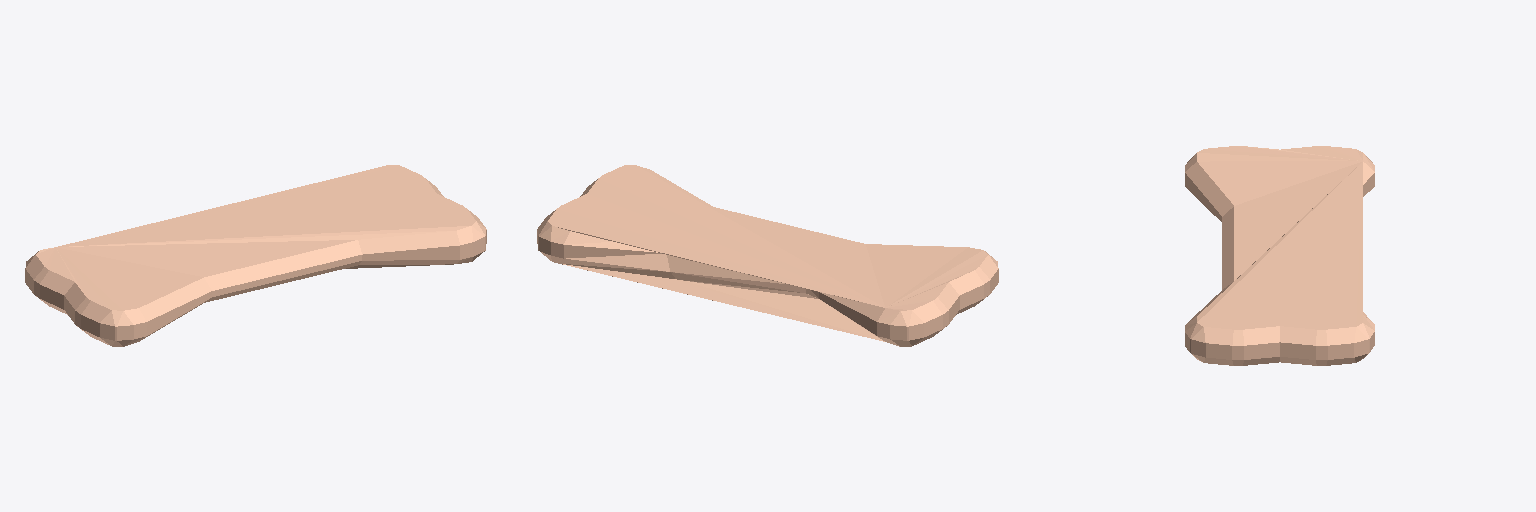
The model's file is bone_small.obj.
3 views of the same model, side by side, from view 1: azimuth 30°, elevation 25°; view 2: azimuth 150°, elevation 25°; view 3: azimuth 270°, elevation 25° (orthographic).
Visible parts, largest first — view 1: Curve_CUCurve; view 2: Curve_CUCurve; view 3: Curve_CUCurve.
Part boxes in pixels (x1,y1,x2,y2): Curve_CUCurve: (25, 165, 486, 346); Curve_CUCurve: (537, 165, 998, 346); Curve_CUCurve: (1185, 146, 1374, 365).
Size of the model in its own units: 0.1606 by 0.014 by 0.0667.